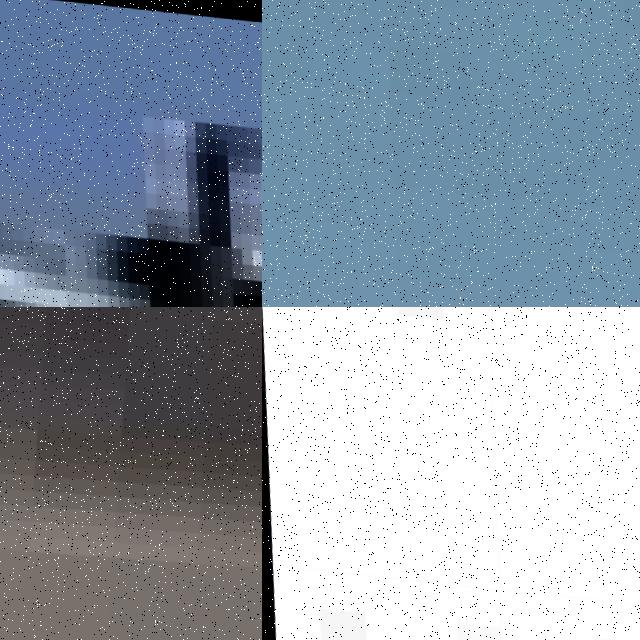drone: (262, 307, 640, 640), (262, 0, 640, 307), (0, 0, 262, 307)
